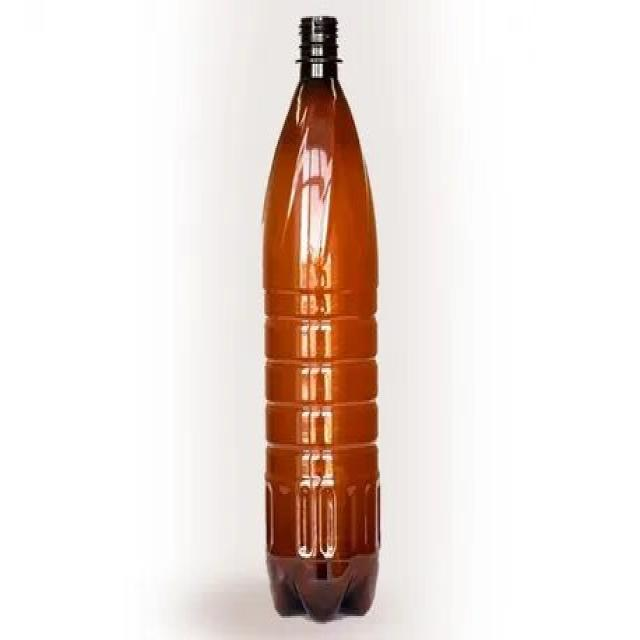brown: (264, 15, 380, 623)
